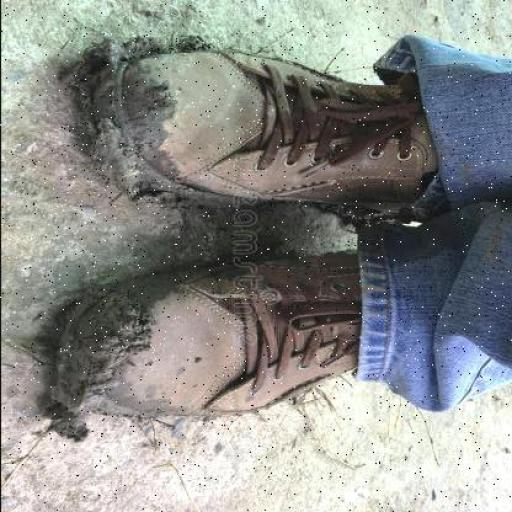safety_shoe: (61, 253, 362, 418), (113, 56, 430, 209)
